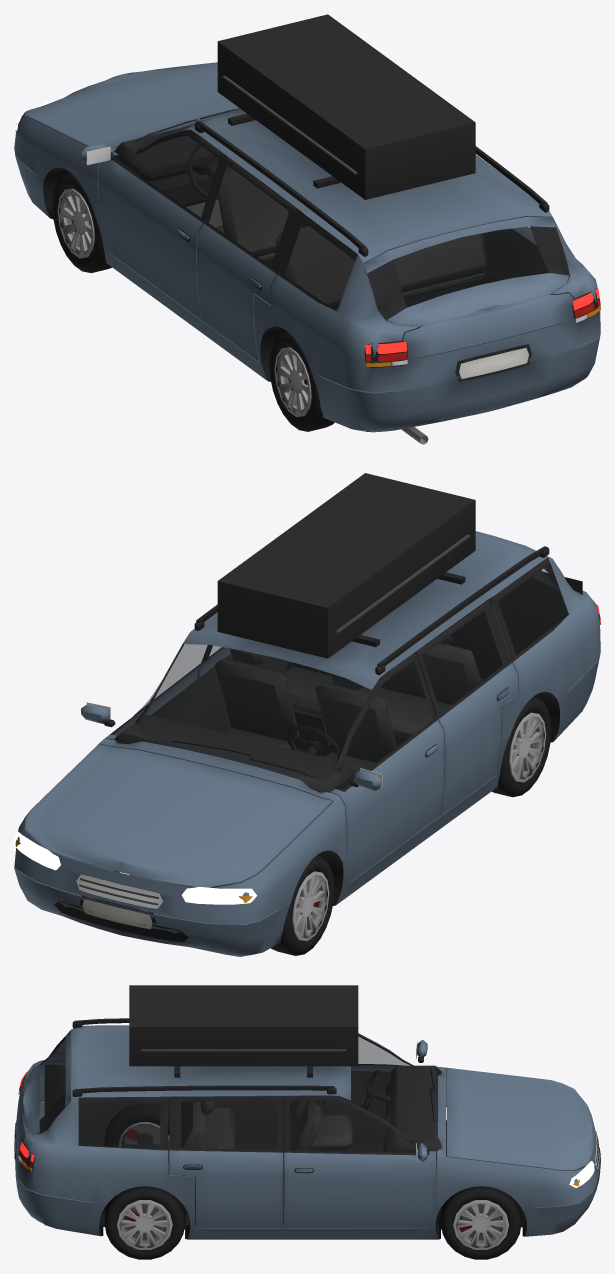
File: car_roofbox_a.glb
3 renders of one model, top to bottom at view 1: azimuth 30°, elevation 25°; view 2: azimuth 150°, elevation 25°; view 3: azimuth 270°, elevation 25°, orthographic. The views are drawn at different scales.
Visible parts, largest first — view 1: car_roofbox_a_body, wheel_rl, wheel_fl; view 2: car_roofbox_a_body, wheel_fl, wheel_rl, lamp_head_l, lamp_head_r; view 3: car_roofbox_a_body, wheel_rr, wheel_fr, wheel_rl.
Part boxes in pixels (x1,y1,x2,y2): car_roofbox_a_body: (14, 14, 600, 444); wheel_rl: (269, 330, 334, 431); wheel_fl: (52, 172, 111, 273); car_roofbox_a_body: (14, 473, 600, 956); wheel_fl: (271, 855, 334, 955); wheel_rl: (492, 696, 551, 797); lamp_head_l: (182, 887, 257, 904); lamp_head_r: (14, 832, 60, 870); car_roofbox_a_body: (14, 985, 600, 1239); wheel_rr: (104, 1186, 185, 1259); wheel_fr: (441, 1186, 521, 1259); wheel_rl: (104, 1103, 169, 1149).
Size of what is drawn, in the model's own units: 2.23 by 1.93 by 4.87.
